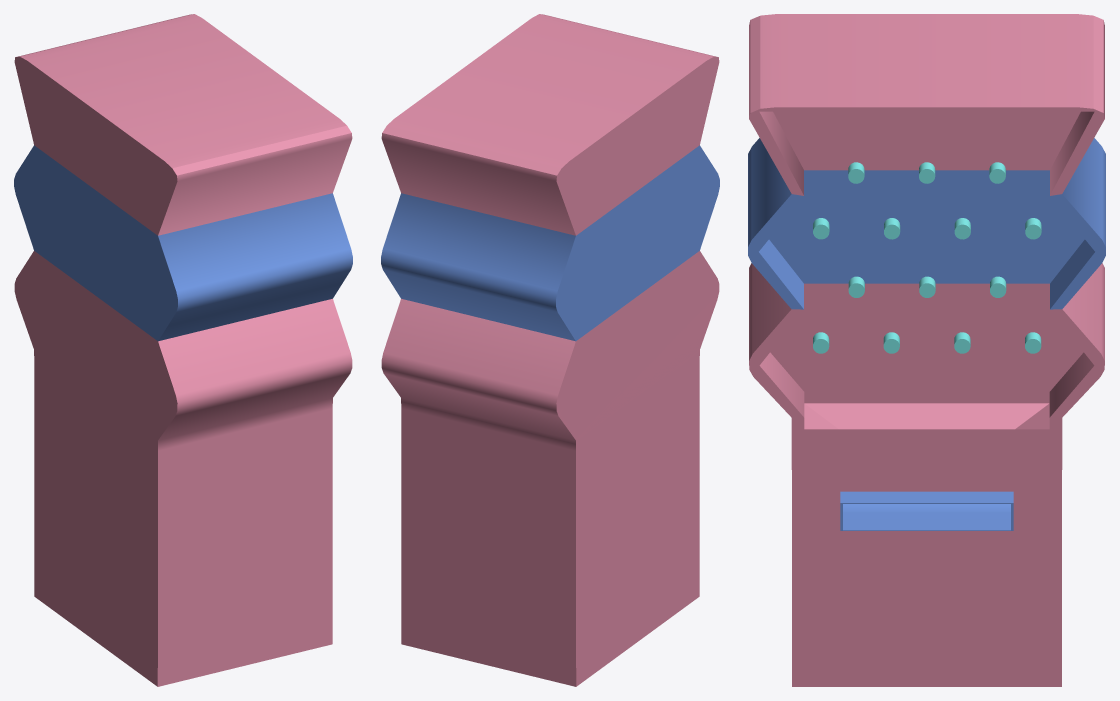
The model's file is Plinko.fbx.
The picture shows the model from 3 angles, left to right: view 1: azimuth 30°, elevation 25°; view 2: azimuth 150°, elevation 25°; view 3: azimuth 270°, elevation 25°; orthographic projection. The views are drawn at different scales.
Parts seen in each view (by area): view 1: PlinkoMachine; view 2: PlinkoMachine; view 3: PlinkoMachine.
Boxes of the visible parts, left/top/right/bottom form: PlinkoMachine: left=14, top=14, right=352, bottom=686; PlinkoMachine: left=381, top=14, right=719, bottom=686; PlinkoMachine: left=748, top=14, right=1105, bottom=686.
Size of the model in its own units: 193 by 498 by 279.
